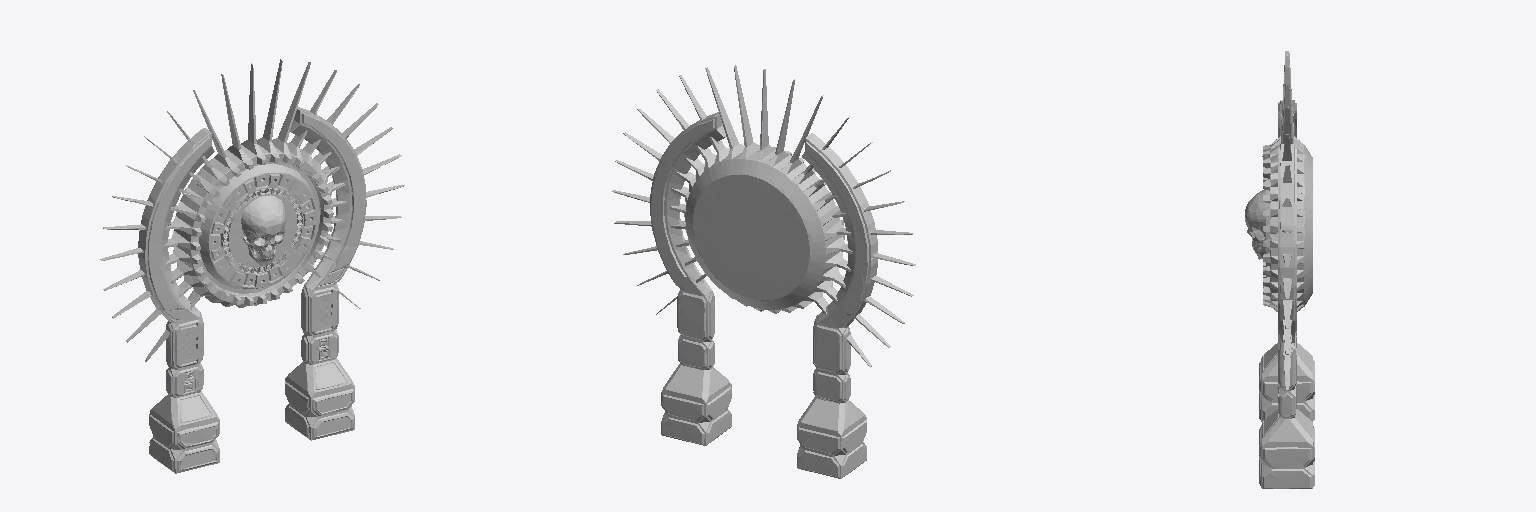
Rendered from Skull Gate.obj.
3 views of the same model, side by side, from view 1: azimuth 30°, elevation 25°; view 2: azimuth 150°, elevation 25°; view 3: azimuth 270°, elevation 25° (orthographic).
Visible parts, largest first — view 1: Gate_copy002; view 2: Gate_copy002; view 3: Gate_copy002.
Boxes of the visible parts, x1=… form: Gate_copy002: x1=100, y1=59, x2=404, y2=473; Gate_copy002: x1=612, y1=65, x2=915, y2=478; Gate_copy002: x1=1245, y1=51, x2=1314, y2=488.
Size of the model in its own units: 13.48 by 16.09 by 2.71.